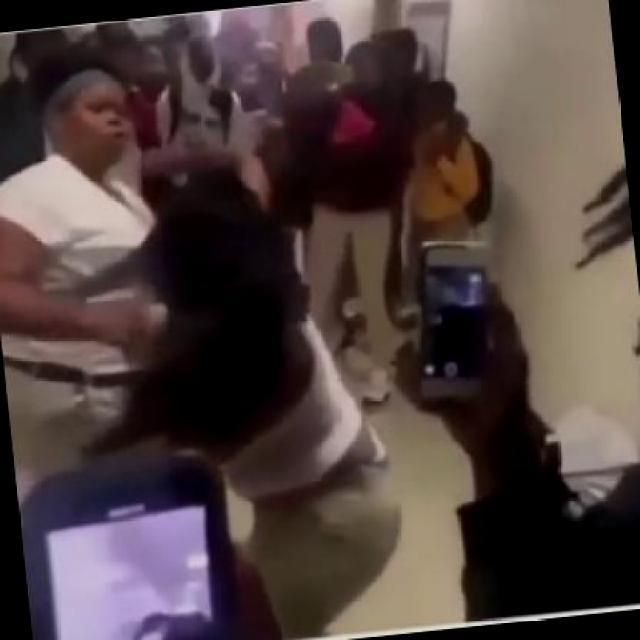fight: (0, 23, 357, 486)
